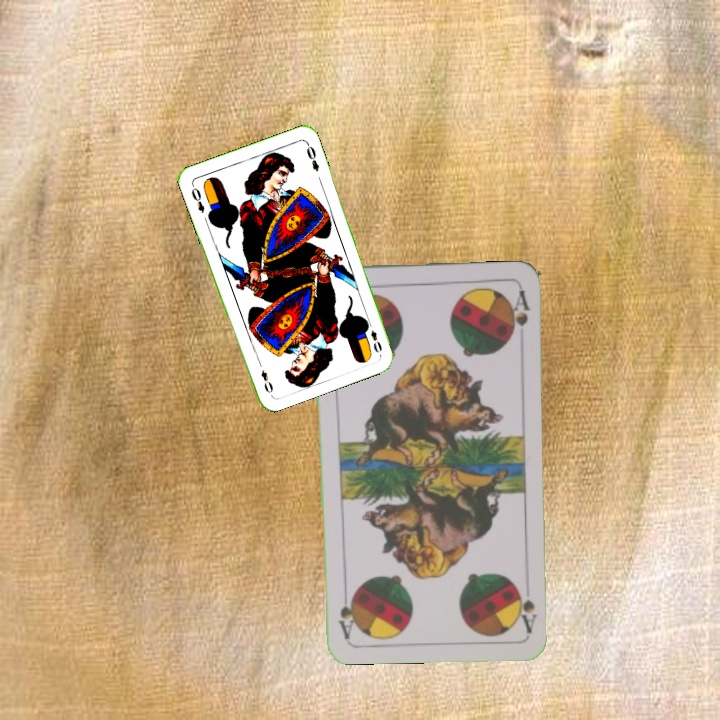EO: (363, 317, 384, 356), (187, 181, 207, 216)
SA: (511, 578, 538, 635)
